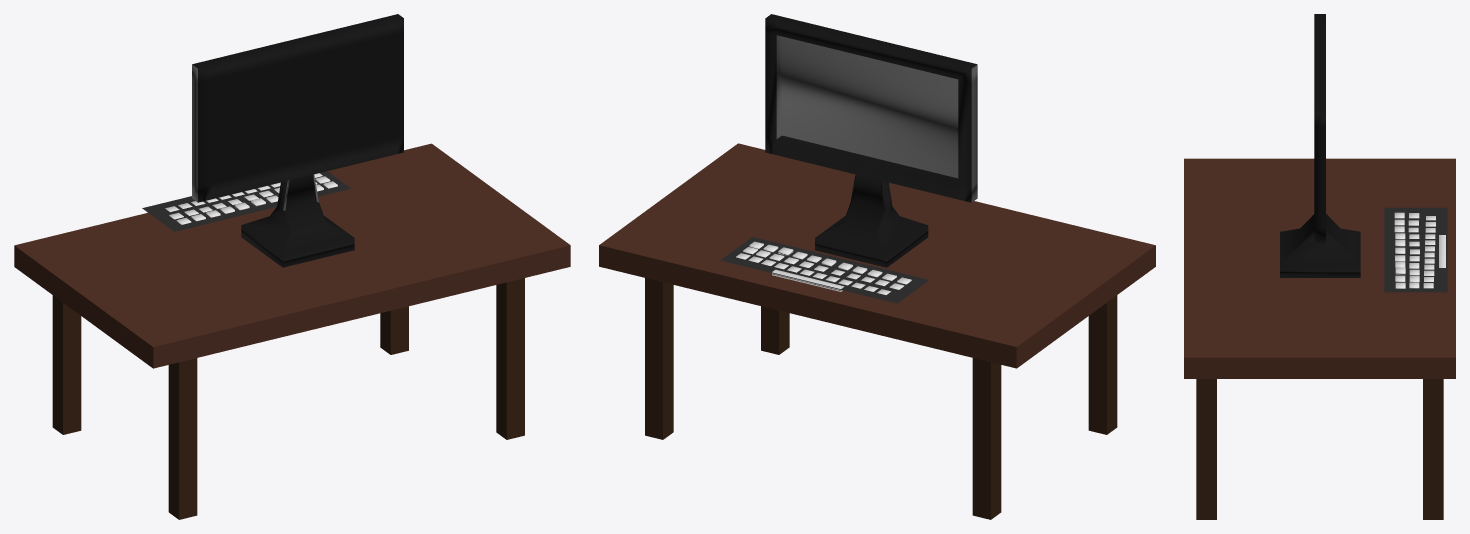
File: computer.fbx
The picture shows the model from 3 angles, left to right: view 1: azimuth 30°, elevation 25°; view 2: azimuth 150°, elevation 25°; view 3: azimuth 270°, elevation 25°; orthographic projection. The views are drawn at different scales.
Parts seen in each view (by area): view 1: Cube.001, Cube.002, Cube, Plane; view 2: Cube.001, Cube.002, Cube, Plane; view 3: Cube.001, Cube.002, Cube, Plane.
Boxes of the visible parts, bbox=[...] form: Cube.001: bbox=[14, 143, 570, 368]; Cube.002: bbox=[192, 14, 403, 267]; Cube: bbox=[52, 278, 524, 519]; Plane: bbox=[142, 171, 350, 231]; Cube.001: bbox=[599, 143, 1155, 368]; Cube.002: bbox=[765, 14, 977, 267]; Cube: bbox=[645, 278, 1117, 519]; Plane: bbox=[720, 237, 929, 303]; Cube.001: bbox=[1184, 158, 1455, 378]; Cube.002: bbox=[1280, 14, 1360, 277]; Cube: bbox=[1196, 379, 1443, 519]; Plane: bbox=[1384, 207, 1447, 292].
Bounding box in the file's own units: 507 × 450 × 292.
